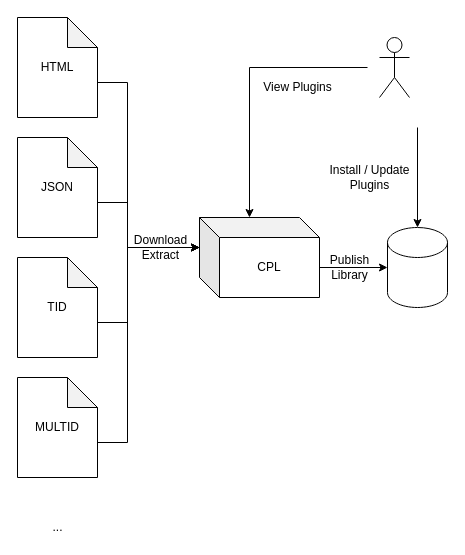
The diagram is 465 pixels wide and 555 high, and some of its shapes have lost their labels. The centre of each missing label's shape, as x and y in pixels:
GitHub Page: the point at 417,267
TiddlyWiki User: the point at 394,67
